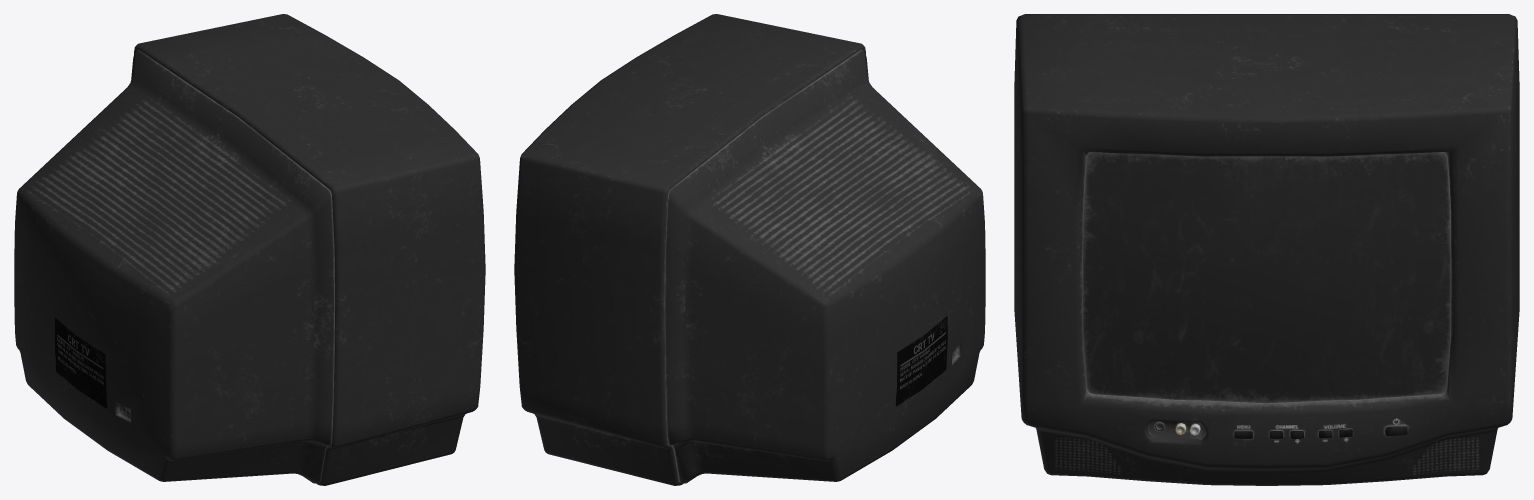
The model's file is crt_tv.glb.
3 renders of one model, left to right at view 1: azimuth 30°, elevation 25°; view 2: azimuth 150°, elevation 25°; view 3: azimuth 270°, elevation 25°, orthographic. The views are drawn at different scales.
Parts seen in each view (by area): view 1: Cube; view 2: Cube; view 3: Cube.
Boxes of the visible parts, box(x1,y1,x2,y2) form: Cube: box(14, 14, 485, 485); Cube: box(514, 14, 985, 485); Cube: box(1014, 14, 1519, 485).
Bounding box in the file's own units: 0.3689 × 0.3338 × 0.3947.
Materials: 1 (1 with a texture image).
